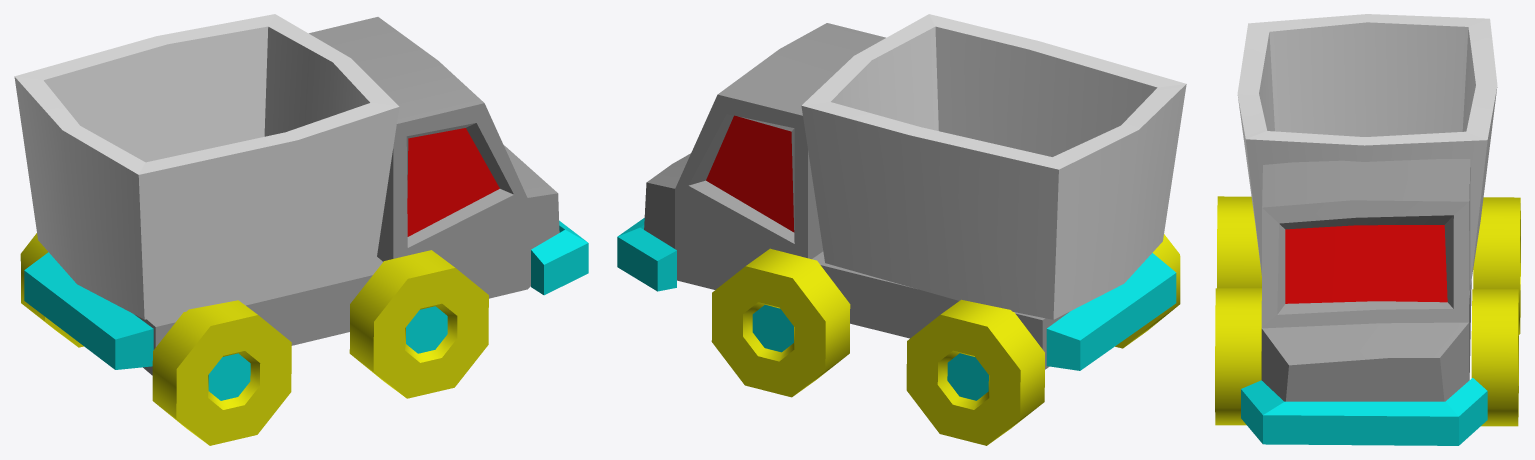
File: BedRoom_TruckToy.fbx
3 renders of one model, left to right at view 1: azimuth 30°, elevation 25°; view 2: azimuth 150°, elevation 25°; view 3: azimuth 270°, elevation 25°, orthographic. The views are drawn at different scales.
Visible parts, largest first — view 1: BedRoom_TruckToy; view 2: BedRoom_TruckToy; view 3: BedRoom_TruckToy.
Boxes of the visible parts, bbox=[...] form: BedRoom_TruckToy: bbox=[14, 14, 588, 445]; BedRoom_TruckToy: bbox=[617, 14, 1186, 445]; BedRoom_TruckToy: bbox=[1215, 14, 1520, 445].
Size of the model in its own units: 50.74 by 28.66 by 29.5.
